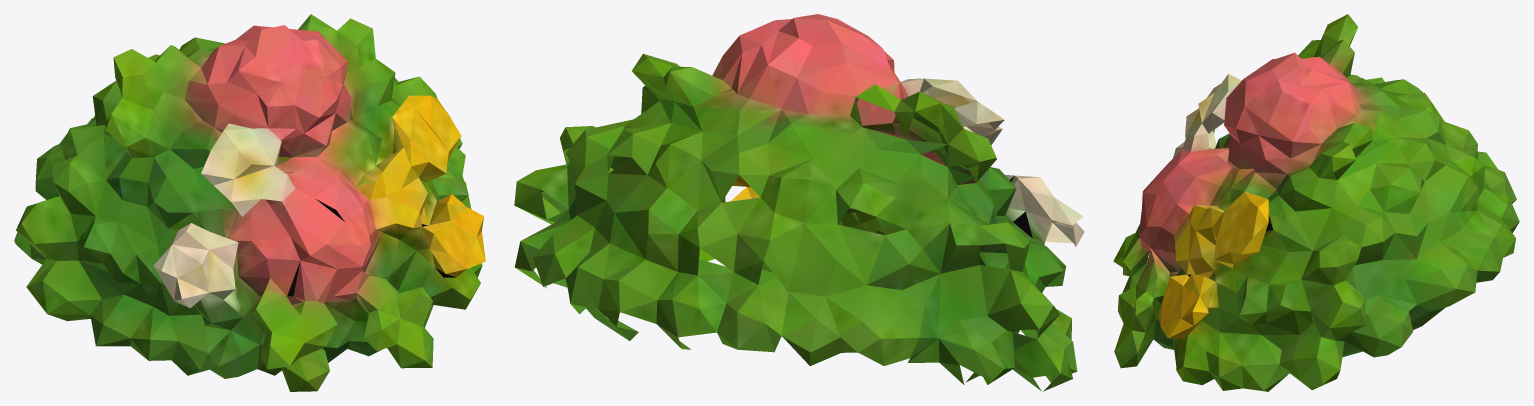
The model's file is M-6_05_flowers.glb.
3 renders of one model, left to right at view 1: azimuth 30°, elevation 25°; view 2: azimuth 150°, elevation 25°; view 3: azimuth 270°, elevation 25°, orthographic. The views are drawn at different scales.
Parts seen in each view (by area): view 1: loA; view 2: loA; view 3: loA.
Part boxes in pixels (x1,y1,x2,y2): loA: (14,14,485,391); loA: (514,14,1084,391); loA: (1113,14,1519,391).
Size of the model in its own units: 1.58 by 1.02 by 1.34.
Materials: 1 (1 with a texture image).
